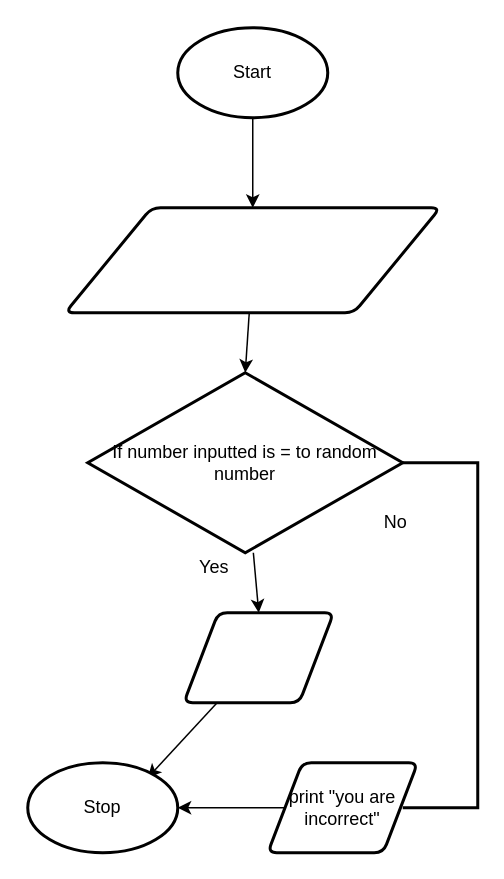
Some shapes in this 504 by 879 pixel diagram are drawn without their labels. Each missing label, with the centre of its shape:
Input number between 1 to 6: the point at 252,260
print "you are correct": the point at 258,657
